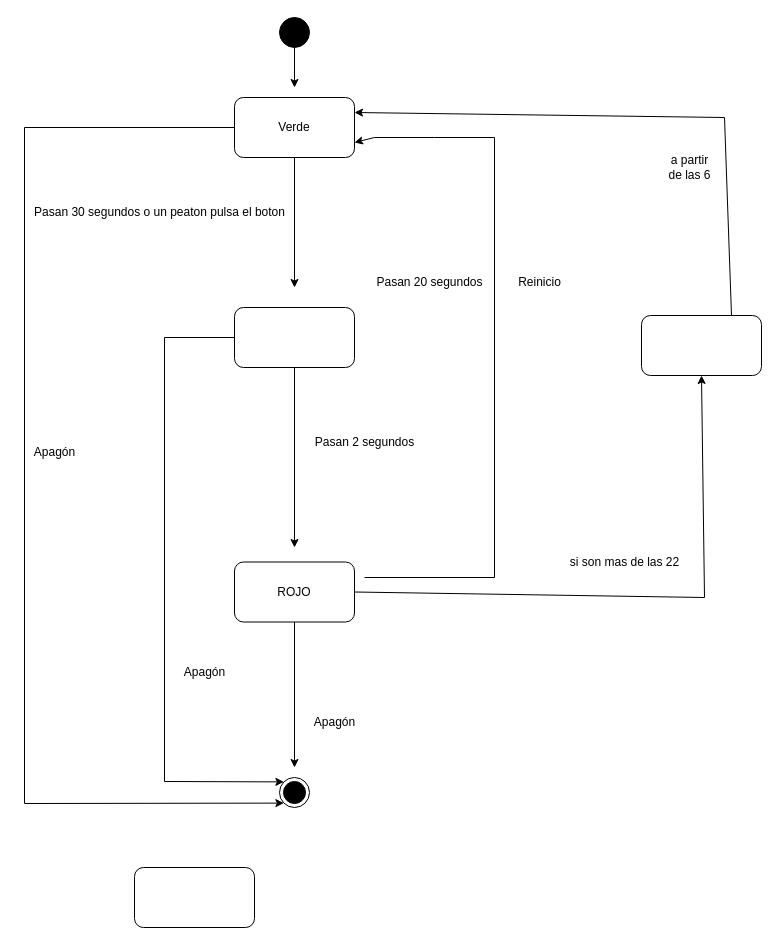
Image size: 779x945. Some labels were removed from this diagram. The centre of each missing label's shape, as x and y in pixels:
Ambar: (294,337)
ambar parpadeando: (701,345)
